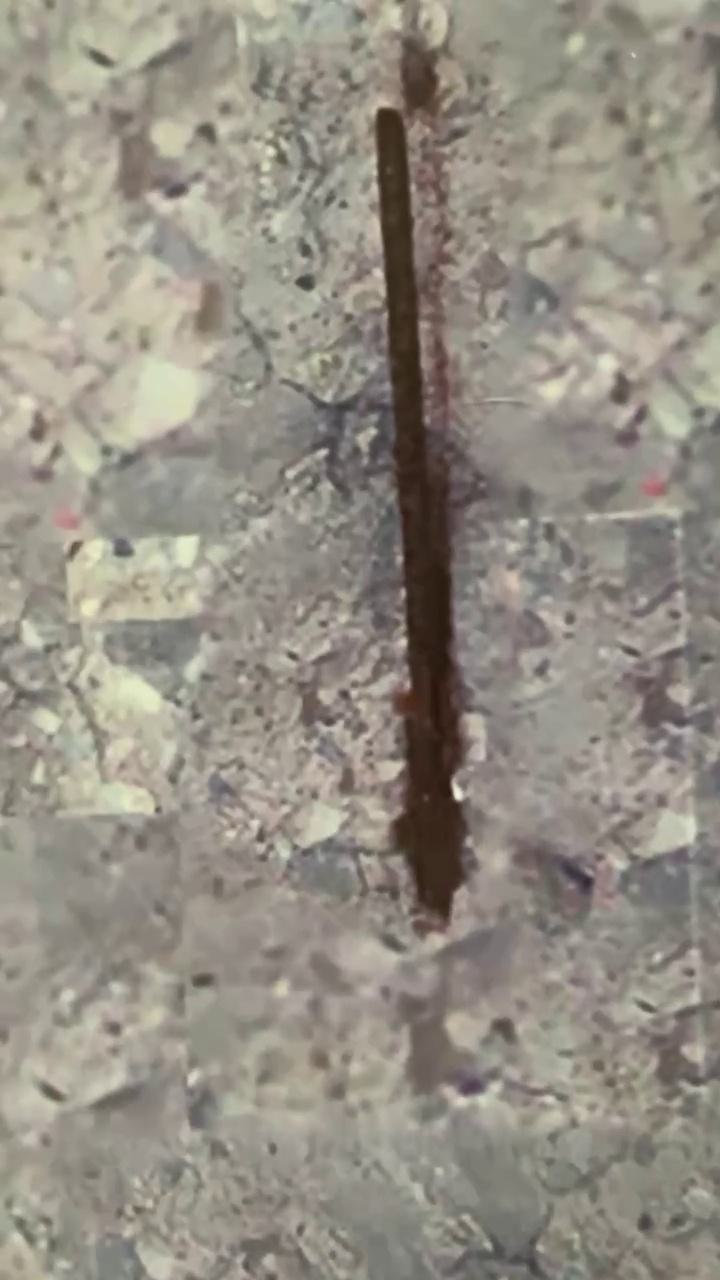Exposed reinforcement: (374, 108, 473, 924)
